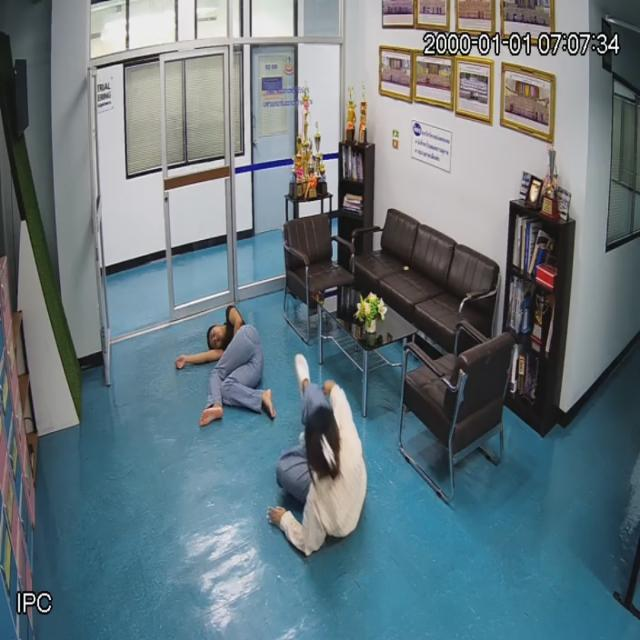fall: (283, 343, 369, 562), (196, 293, 280, 427)
